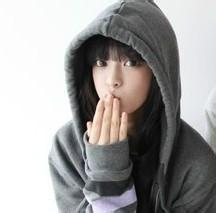face: (92, 35, 152, 114)
